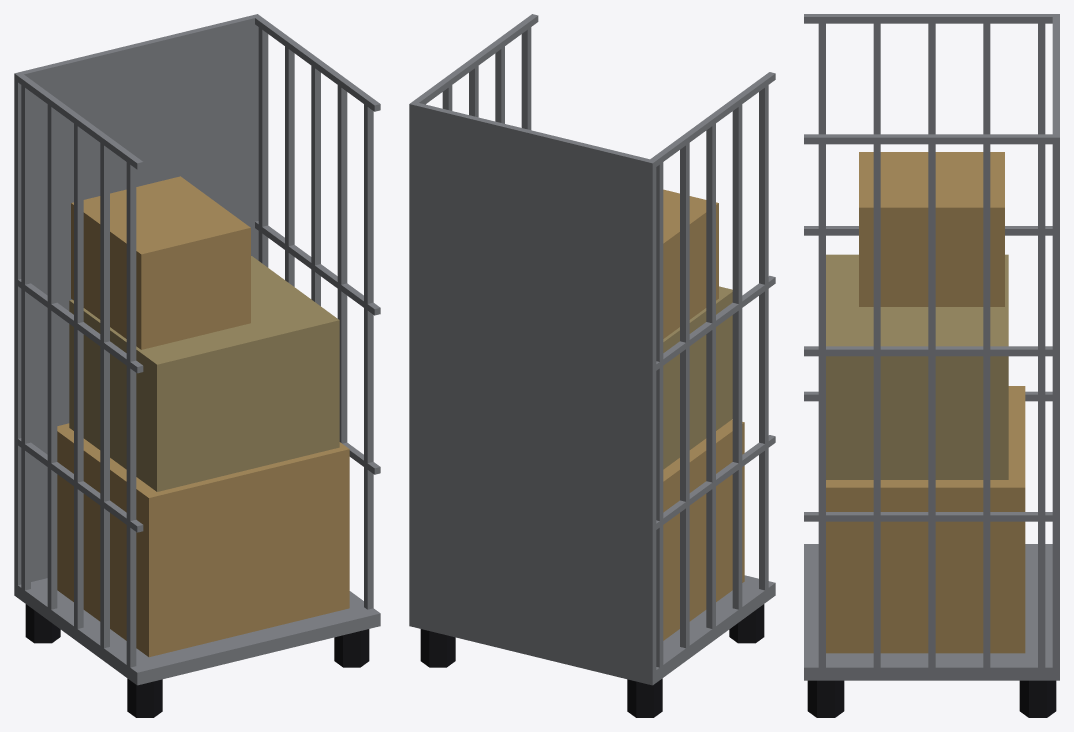
File: prop_cage-trolley.glb
3 renders of one model, left to right at view 1: azimuth 30°, elevation 25°; view 2: azimuth 150°, elevation 25°; view 3: azimuth 270°, elevation 25°, orthographic. The views are drawn at different scales.
Visible parts, largest first — view 1: body; view 2: body; view 3: body.
Part boxes in pixels (<box>): body: <box>14,14,380,717</box>; body: <box>409,14,775,717</box>; body: <box>804,14,1059,717</box>.
Size of the model in its own units: 0.8 by 1.76 by 0.7.
